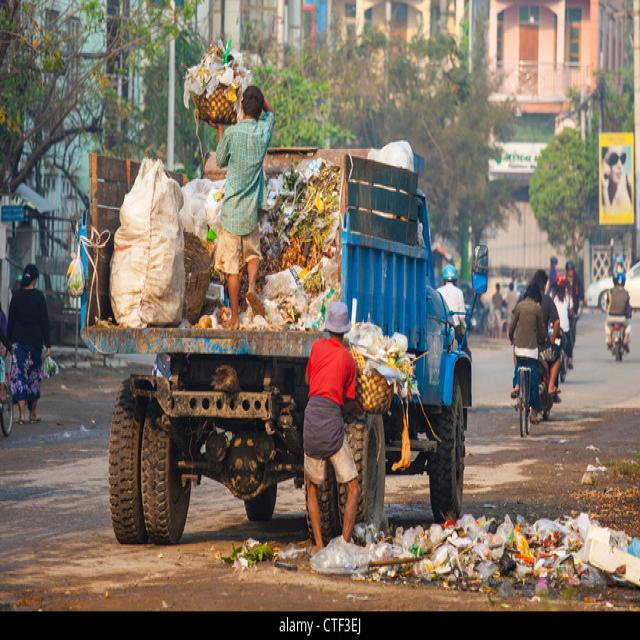trash: (256, 140, 410, 321), (350, 527, 630, 614), (100, 154, 225, 346), (187, 48, 249, 122)
